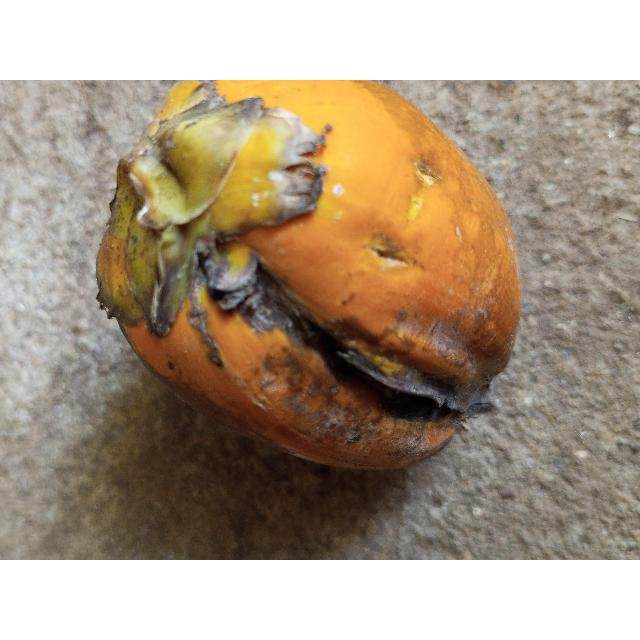damaged: (94, 80, 523, 473)
